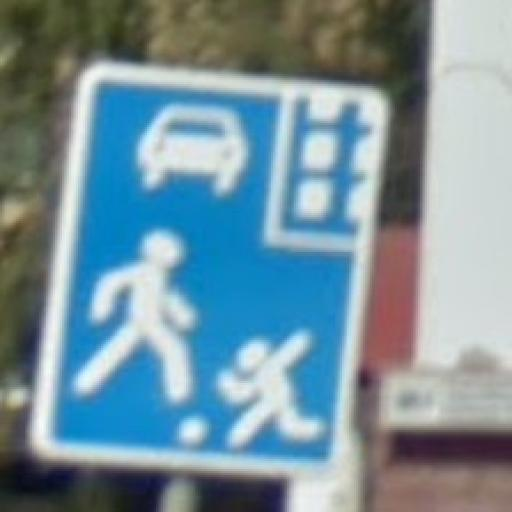traffic_sign: (29, 63, 398, 489)
